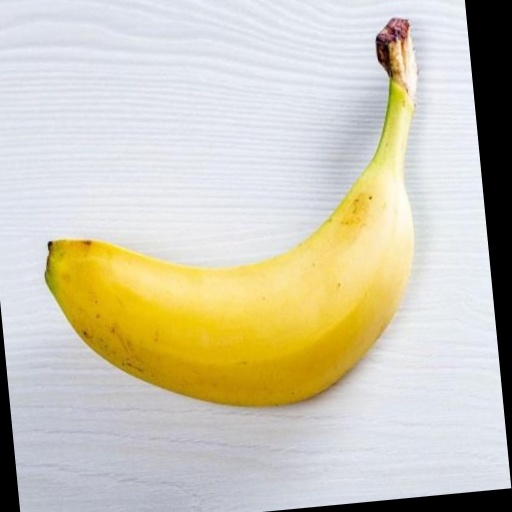fruit: (45, 19, 416, 406)
